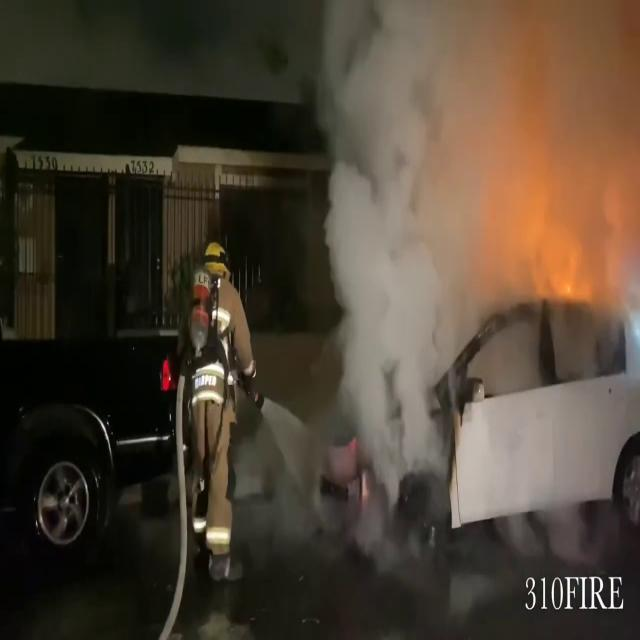Smoke: (270, 2, 640, 490)
